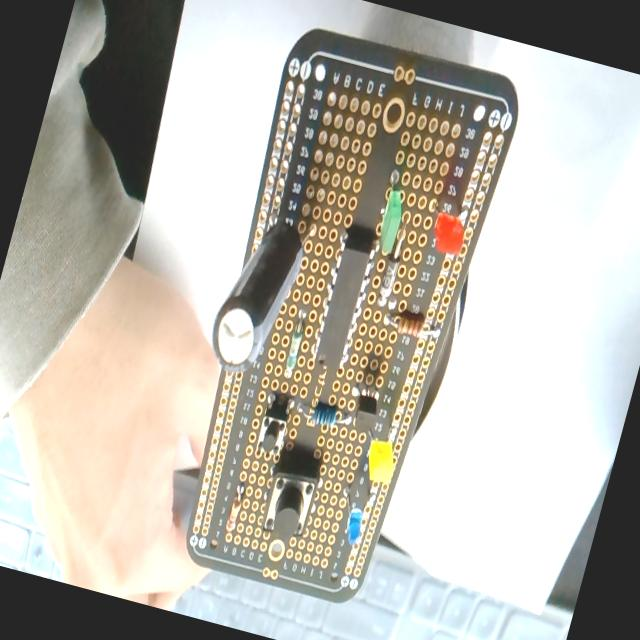IC: (307, 238, 379, 374)
diode: (375, 212, 412, 306)
led: (422, 192, 474, 266), (375, 171, 414, 254), (330, 486, 370, 546), (360, 436, 400, 486)
resistor: (276, 306, 314, 388), (383, 306, 438, 342), (224, 483, 247, 531), (310, 402, 340, 431)
switch: (256, 456, 322, 552), (254, 397, 292, 460)
transistor: (340, 372, 388, 446)
